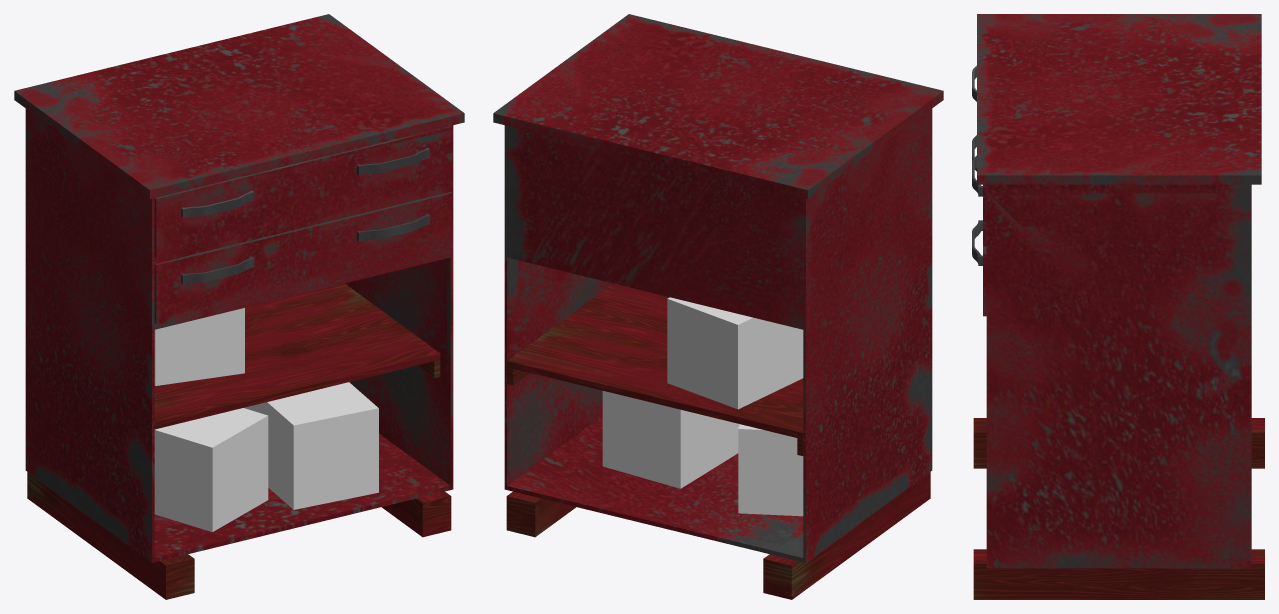
Rendered from ToolCabinet.fbx.
3 views of the same model, side by side, from view 1: azimuth 30°, elevation 25°; view 2: azimuth 150°, elevation 25°; view 3: azimuth 270°, elevation 25° (orthographic). The views are drawn at different scales.
Visible parts, largest first — view 1: Material2.002, Material2.001, Material2; view 2: Material2.002, Material2.001, Material2; view 3: Material2.002, Material2.
Part boxes in pixels (x1=…): Material2.002: x1=14, y1=14, x2=464, y2=562; Material2.001: x1=154, y1=308, x2=378, y2=532; Material2: x1=27, y1=283, x2=451, y2=599; Material2.002: x1=493, y1=14, x2=943, y2=562; Material2.001: x1=602, y1=297, x2=803, y2=516; Material2: x1=506, y1=283, x2=930, y2=599; Material2.002: x1=972, y1=14, x2=1261, y2=568; Material2: x1=973, y1=418, x2=1264, y2=599.
Bounding box in the file's own units: 4.47 × 5.59 × 3.43.
Materials: 3 (2 with a texture image).
